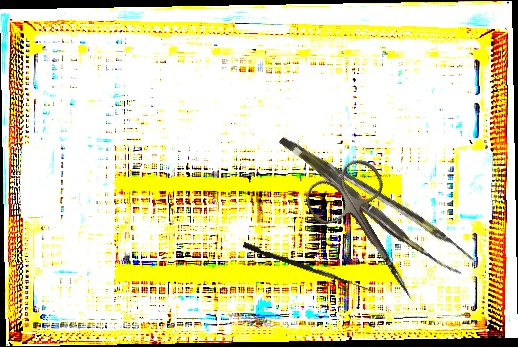Hook Surgical: (242, 242, 375, 292)
Iris Scissors: (299, 152, 443, 320)
Tissue Forceps: (278, 114, 476, 288)
